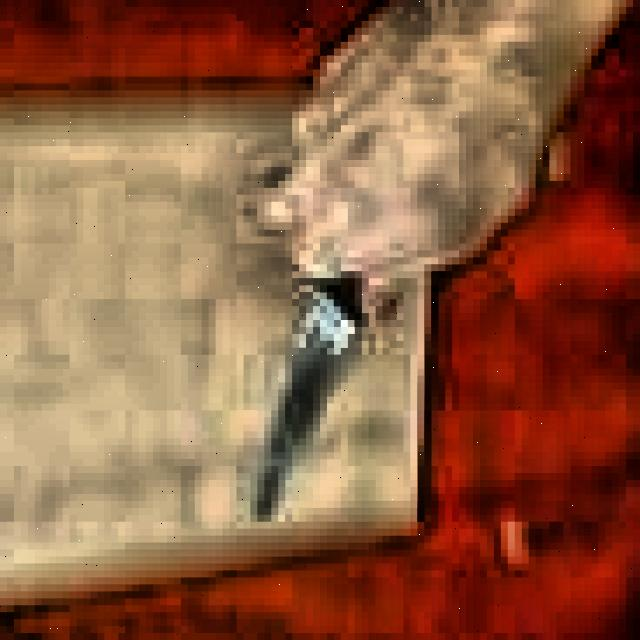knife: (255, 273, 367, 523)
